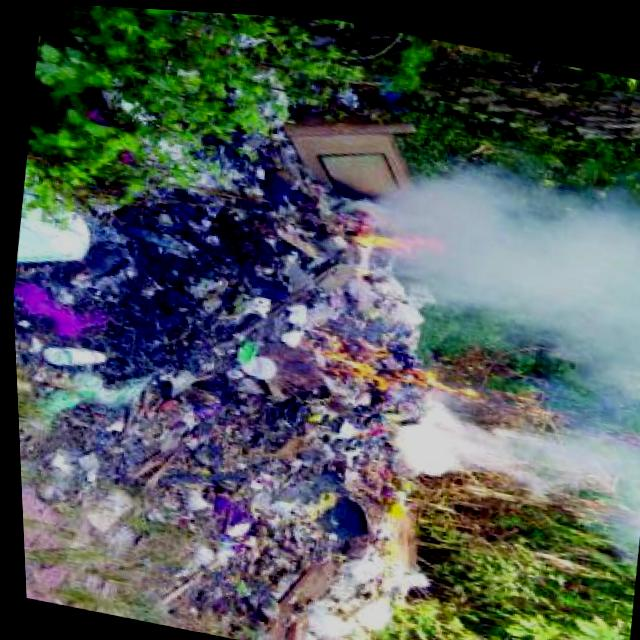Fire: (297, 325, 497, 412), (346, 214, 443, 259)
Smoke: (364, 155, 640, 383), (376, 396, 640, 544)
